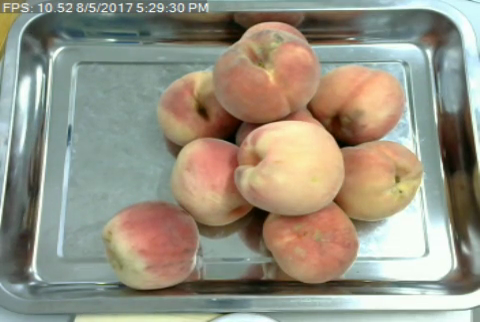Peach: (210, 22, 319, 126), (235, 115, 341, 219), (103, 201, 198, 287), (310, 64, 407, 144), (333, 137, 423, 221), (260, 205, 360, 280), (176, 138, 253, 227), (160, 64, 236, 149)
